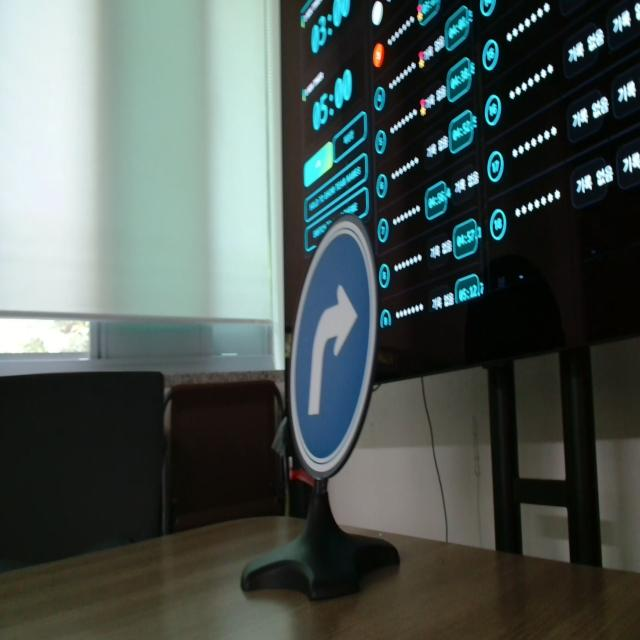right_dierection: (282, 205, 408, 483)
